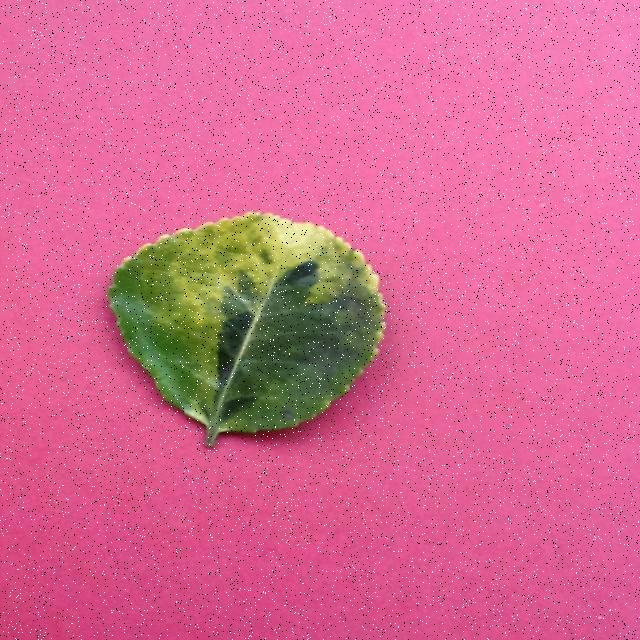foliage: (105, 208, 386, 454)
